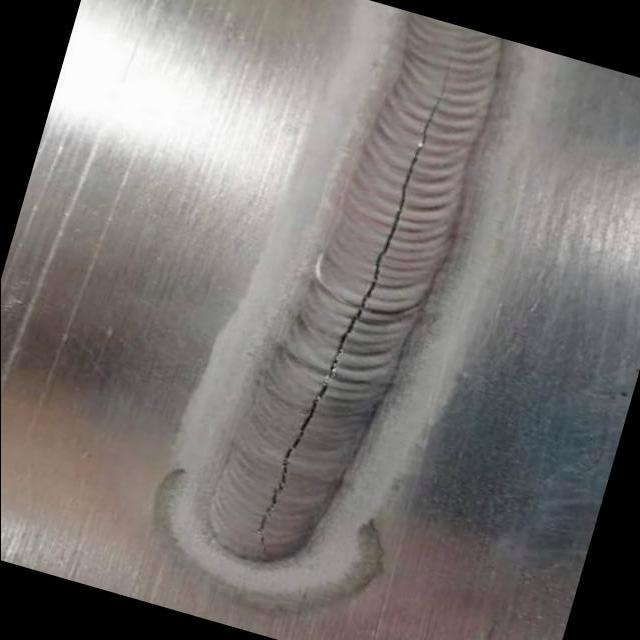defect: (246, 49, 454, 565)
